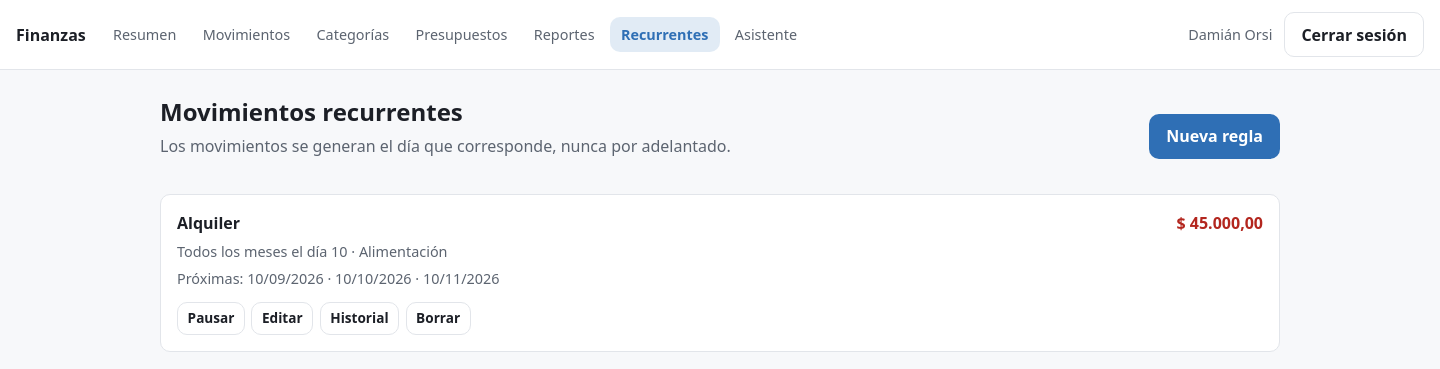
Test: RecurringPage: pausar y reactivar › pausa una regla y avisa que no va a haber backfill
Expected: the text "Alquiler" is shown, [177,211,240,235]
Click the button "Pausar".
click(211, 318)  # box [177,302,245,335]
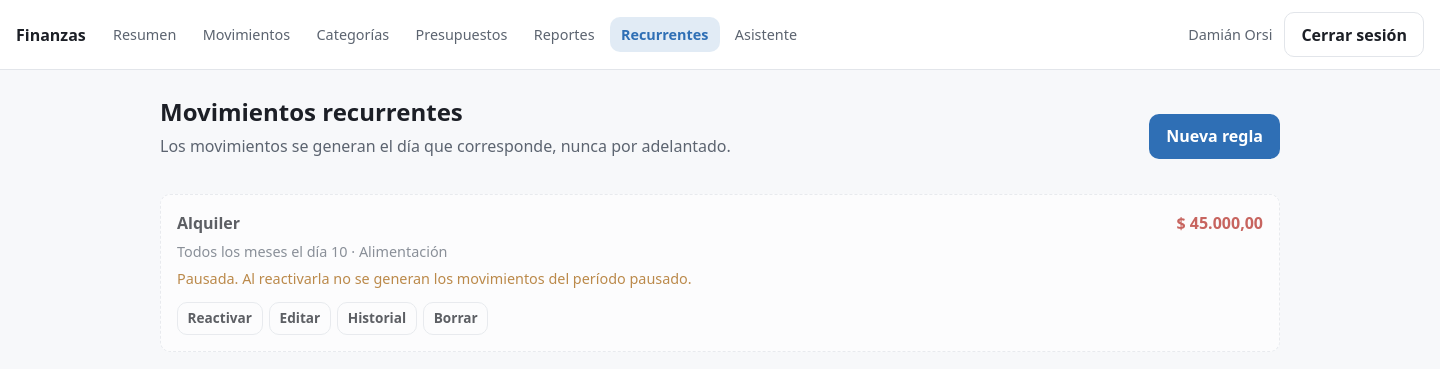
Now the button "Reactivar" is shown, box [177,302,263,335]
Now the text "no se generan los movimientos del período pausado" is shown, box [177,269,692,288]
